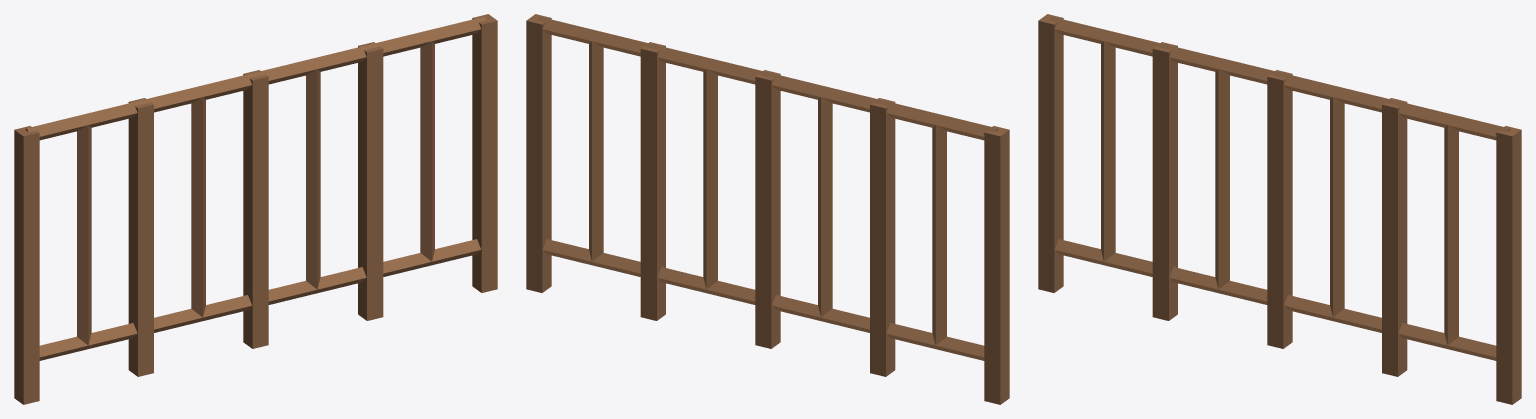
The model's file is WoodFence.glb.
3 renders of one model, left to right at view 1: azimuth 30°, elevation 25°; view 2: azimuth 150°, elevation 25°; view 3: azimuth 330°, elevation 25°, orthographic.
Visible parts, largest first — view 1: RAIL_Brick_WoodFence_RailBody.001, RAIL_Brick_WoodFence_StartPost.001, RAIL_Brick_WoodFence_EndPost.001; view 2: RAIL_Brick_WoodFence_RailBody.001, RAIL_Brick_WoodFence_StartPost.001, RAIL_Brick_WoodFence_EndPost.001; view 3: RAIL_Brick_WoodFence_RailBody.001, RAIL_Brick_WoodFence_EndPost.001, RAIL_Brick_WoodFence_StartPost.001.
Boxes of the visible parts, x1,y1,x2,y2 form: RAIL_Brick_WoodFence_RailBody.001: (25, 16, 486, 376); RAIL_Brick_WoodFence_StartPost.001: (14, 126, 39, 404); RAIL_Brick_WoodFence_EndPost.001: (472, 14, 497, 292); RAIL_Brick_WoodFence_RailBody.001: (537, 16, 998, 376); RAIL_Brick_WoodFence_StartPost.001: (984, 126, 1009, 404); RAIL_Brick_WoodFence_EndPost.001: (526, 14, 551, 292); RAIL_Brick_WoodFence_RailBody.001: (1049, 16, 1510, 376); RAIL_Brick_WoodFence_EndPost.001: (1496, 126, 1521, 404); RAIL_Brick_WoodFence_StartPost.001: (1038, 14, 1063, 292).
Bounding box in the file's own units: 2.07 × 1.13 × 0.07.
